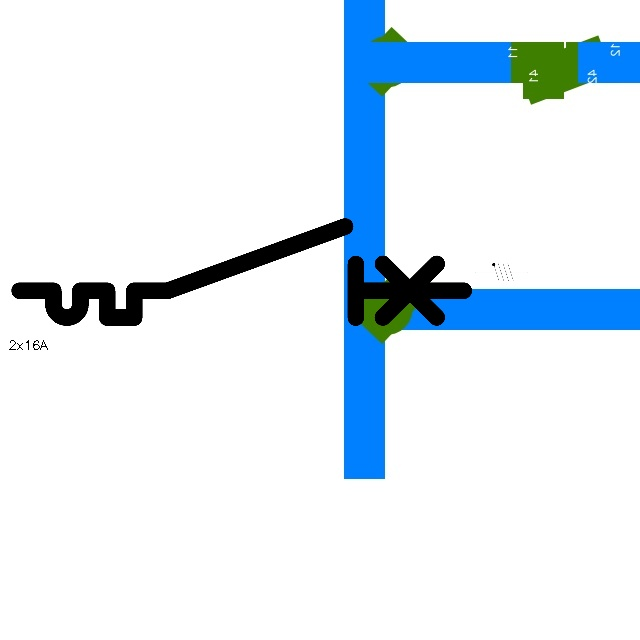interruptor_termomagnetico: (8, 215, 475, 329)
